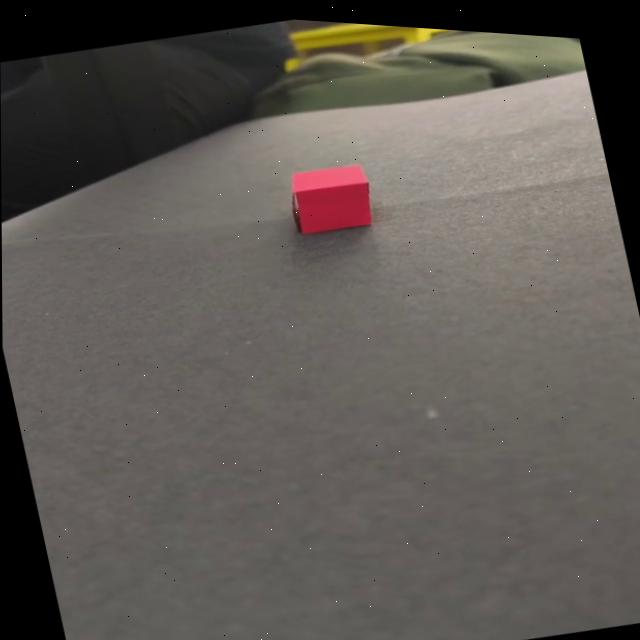red block: (282, 155, 376, 240)
